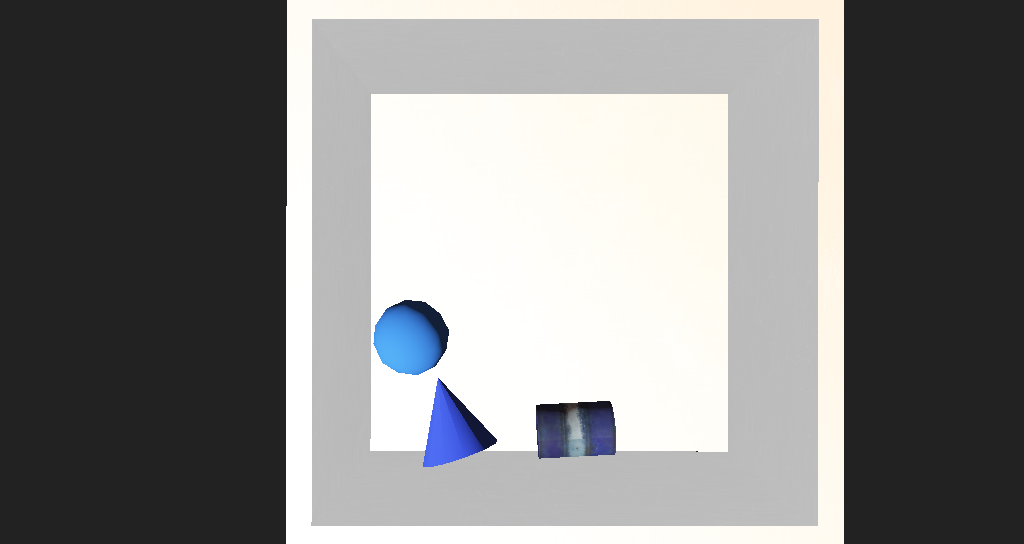cone: (492, 344, 559, 382)
cylinder: (360, 315, 475, 391)
sphere: (360, 282, 421, 329)
